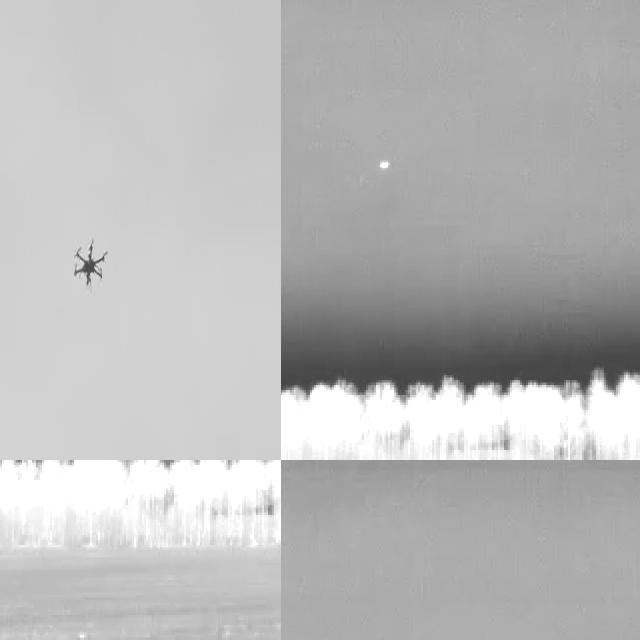1: (374, 154, 400, 178)
drone: (71, 234, 110, 297)
